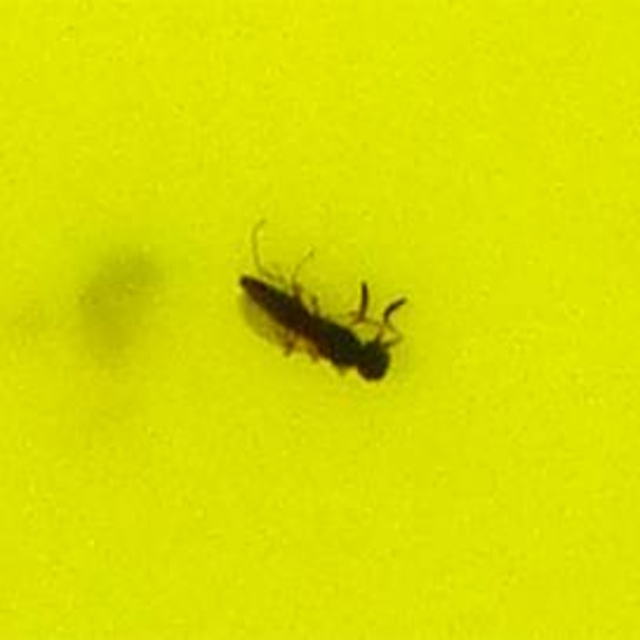Hymenoptera: (235, 254, 405, 386)
